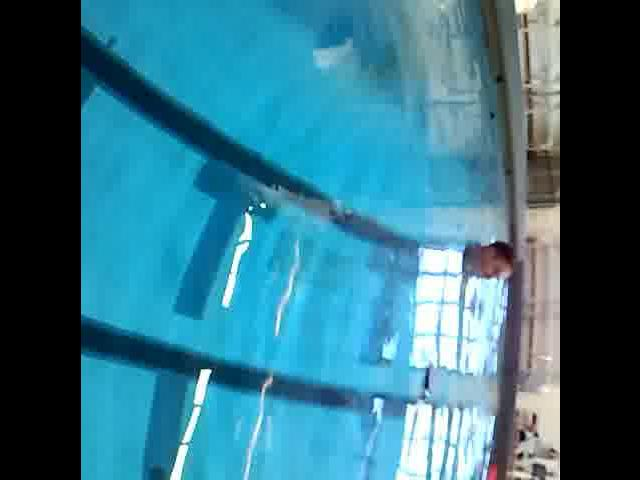CamMount: (416, 356, 438, 408)
